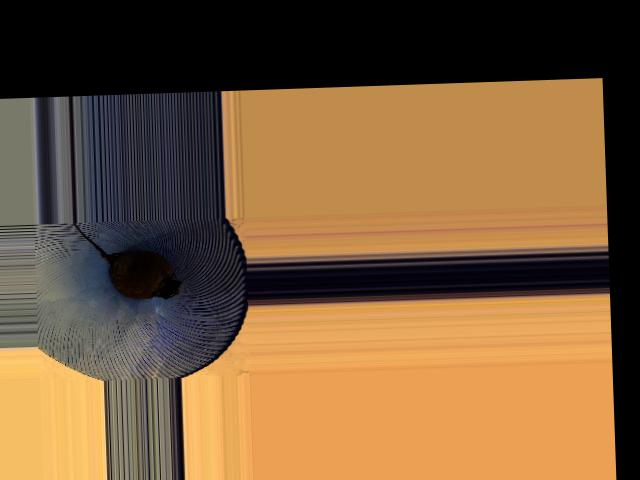beet: (74, 218, 182, 301)
